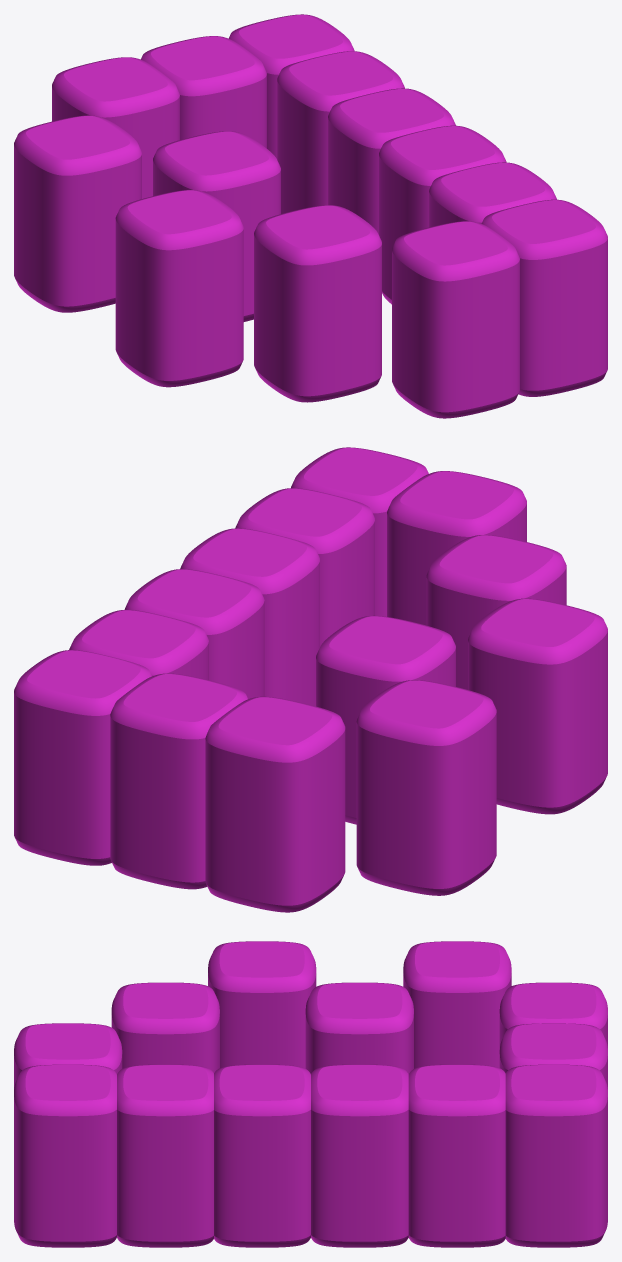
The model's file is Letter_B.fbx.
3 views of the same model, one above another, from view 1: azimuth 30°, elevation 25°; view 2: azimuth 150°, elevation 25°; view 3: azimuth 270°, elevation 25° (orthographic). The views are drawn at different scales.
Parts seen in each view (by area): view 1: Letter_B; view 2: Letter_B; view 3: Letter_B.
Boxes of the visible parts, <box> form: Letter_B: <box>14,14,607,418</box>; Letter_B: <box>14,447,607,912</box>; Letter_B: <box>14,941,607,1247</box>.
Size of the model in its own units: 0.3465 by 0.14 by 0.5146.
